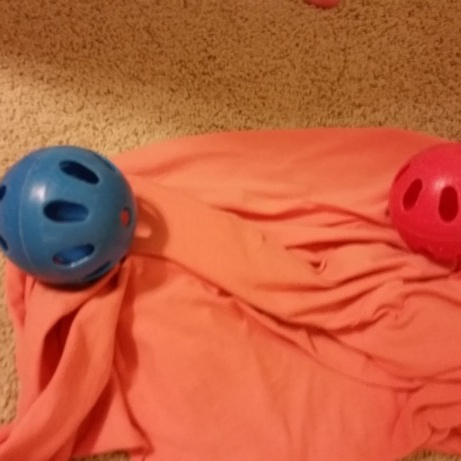ball: (1, 144, 143, 292), (384, 141, 461, 267)
